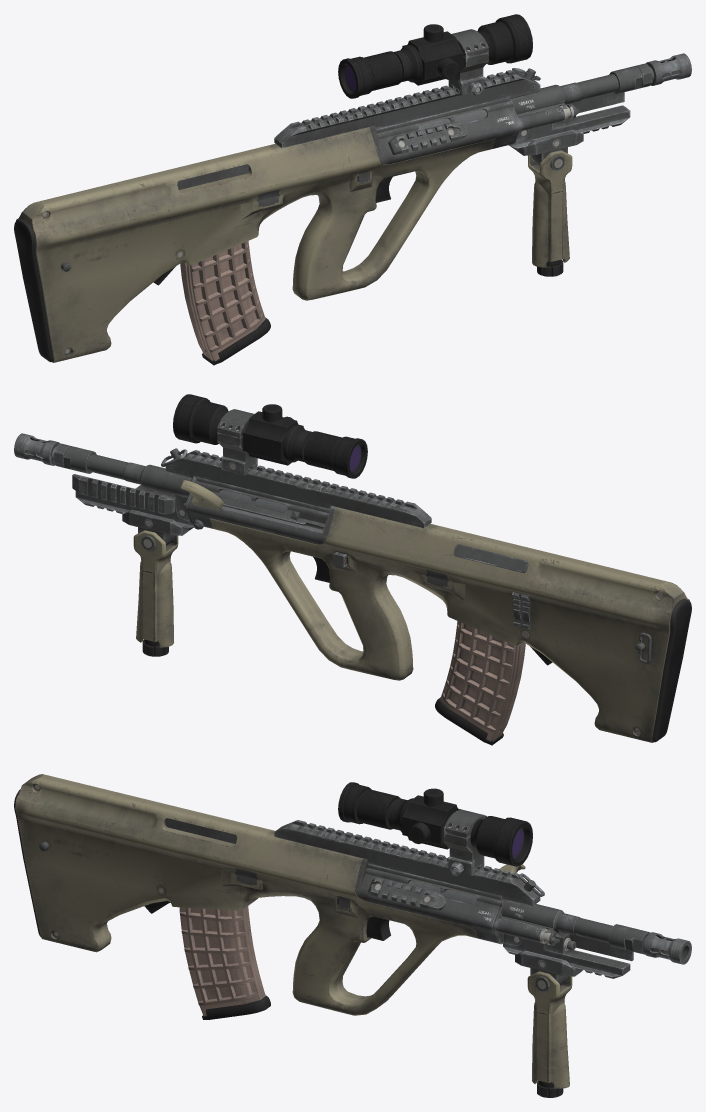
File: aug.glb
3 renders of one model, top to bottom at view 1: azimuth 30°, elevation 25°; view 2: azimuth 150°, elevation 25°; view 3: azimuth 330°, elevation 25°, orthographic.
Visible parts, largest first — view 1: Object023_01 - Default_0; view 2: Object023_01 - Default_0; view 3: Object023_01 - Default_0.
Boxes of the visible parts, x1,y1,x2,y2 form: Object023_01 - Default_0: (14, 14, 691, 365); Object023_01 - Default_0: (14, 394, 691, 745); Object023_01 - Default_0: (14, 774, 691, 1097).
Size of the model in its own units: 78.38 by 31.47 by 8.77.
Materials: 2 (2 with a texture image).
